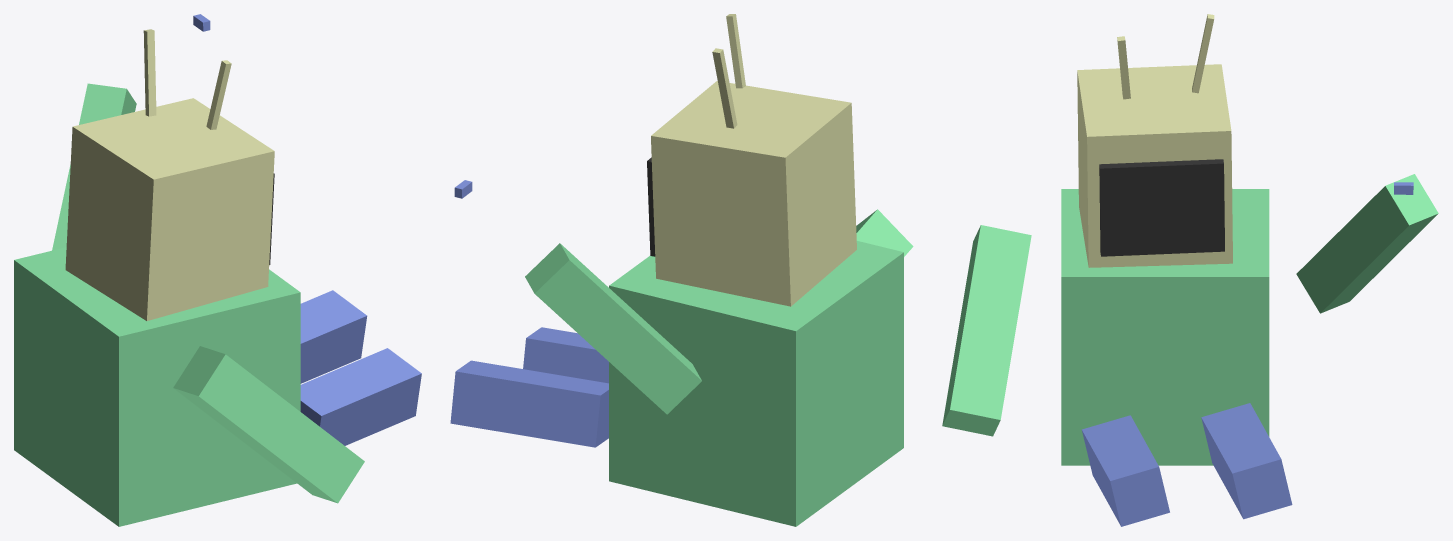
Rendered from RobotHoldingBlueberryblend.gltf.
3 views of the same model, side by side, from view 1: azimuth 30°, elevation 25°; view 2: azimuth 150°, elevation 25°; view 3: azimuth 270°, elevation 25° (orthographic). The views are drawn at different scales.
Parts seen in each view (by area): view 1: Cube.008; view 2: Cube.008; view 3: Cube.008.
Boxes of the visible parts, box(x1,y1,x2,y2) form: Cube.008: box(14, 14, 421, 526); Cube.008: box(450, 14, 913, 526); Cube.008: box(942, 14, 1438, 526).
Bounding box in the file's own units: 3.68 × 4.38 × 4.77.
